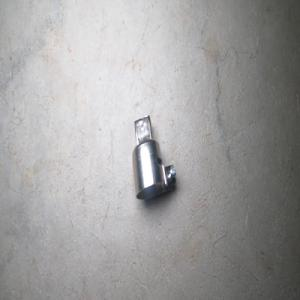MetalPart: (131, 114, 176, 200)
